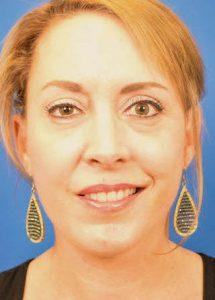strokeEyeMid: (36, 72, 171, 129)
strokeMouthWeak: (64, 178, 153, 218)
